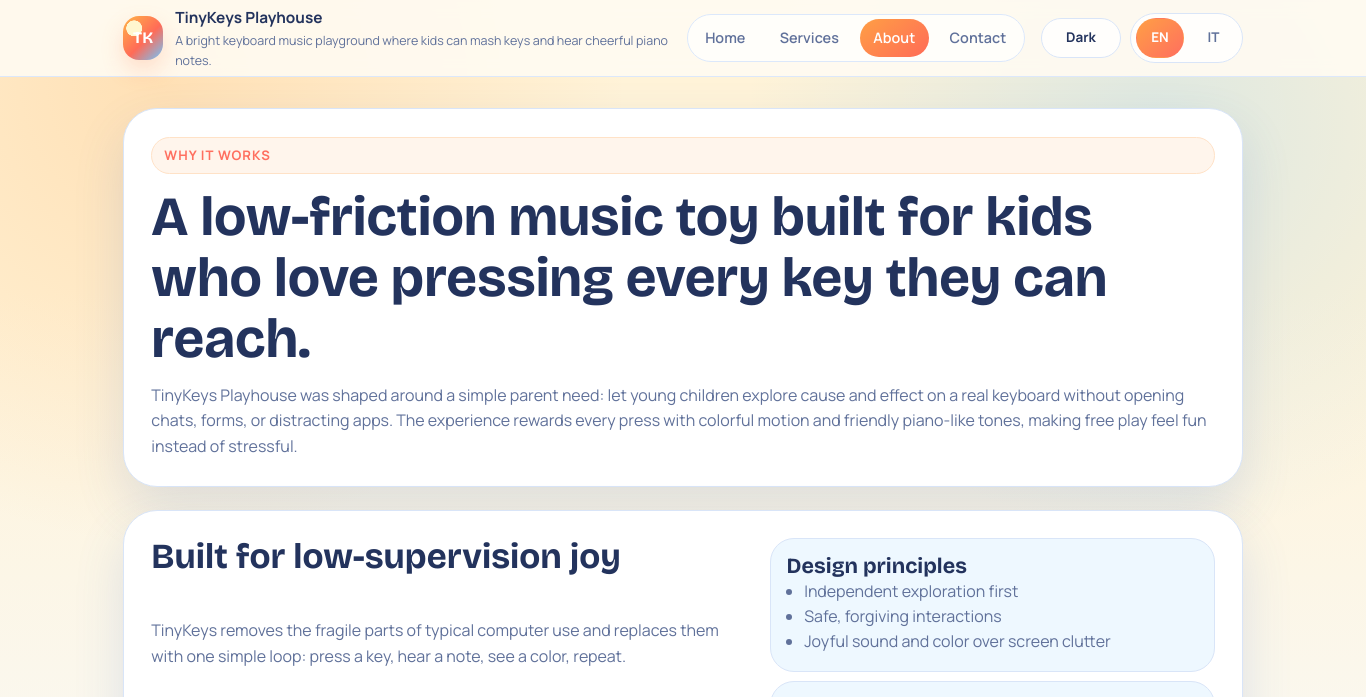
Test case: site localization › renders /about in Italian after the header toggle
Click the button with aria-label "Switch website to Italian" at (1214, 38), box left=1190, top=18, right=1238, bottom=58
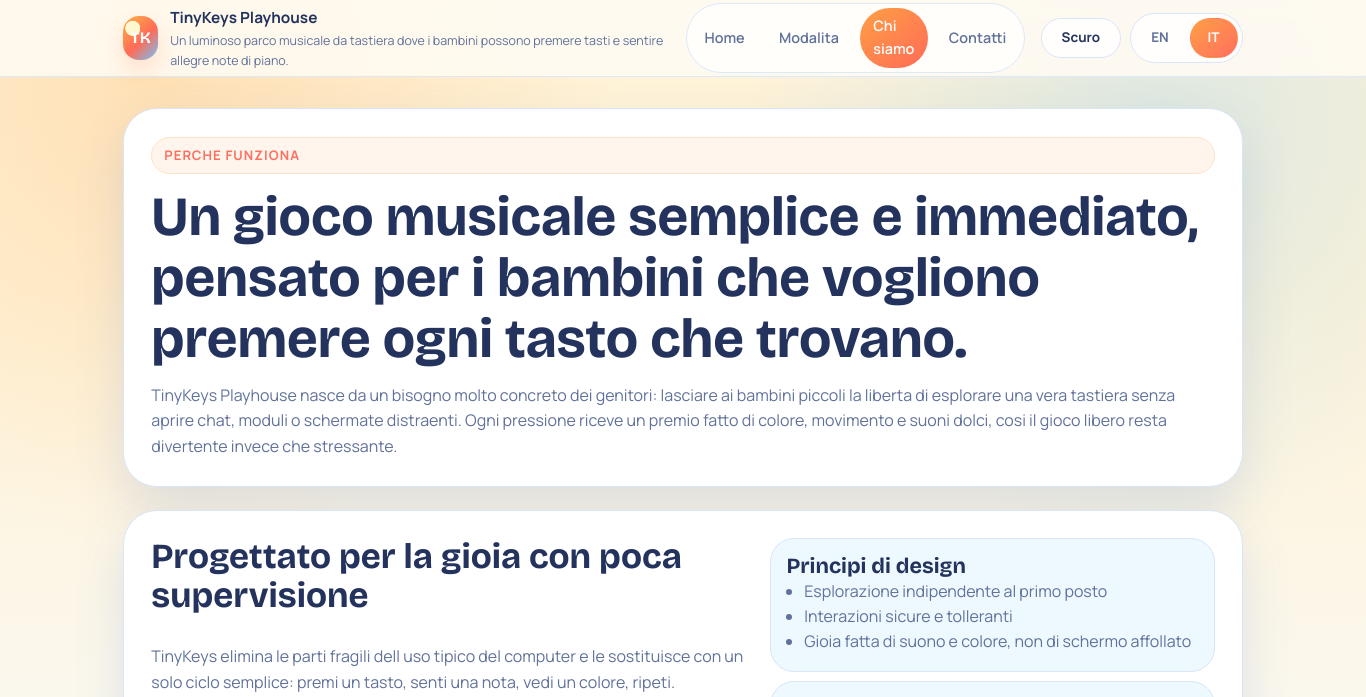
Now the heading named "Un gioco musicale semplice e immediato, pensato per i bambini che vogliono premere ogni tasto che trovano." is shown, box left=151, top=187, right=1215, bottom=370
Now the link "Modalita" is shown, box left=779, top=28, right=839, bottom=47
Now the link "Chi siamo" is shown, box left=860, top=8, right=928, bottom=68
